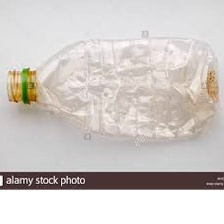bottle: (4, 29, 222, 147)
